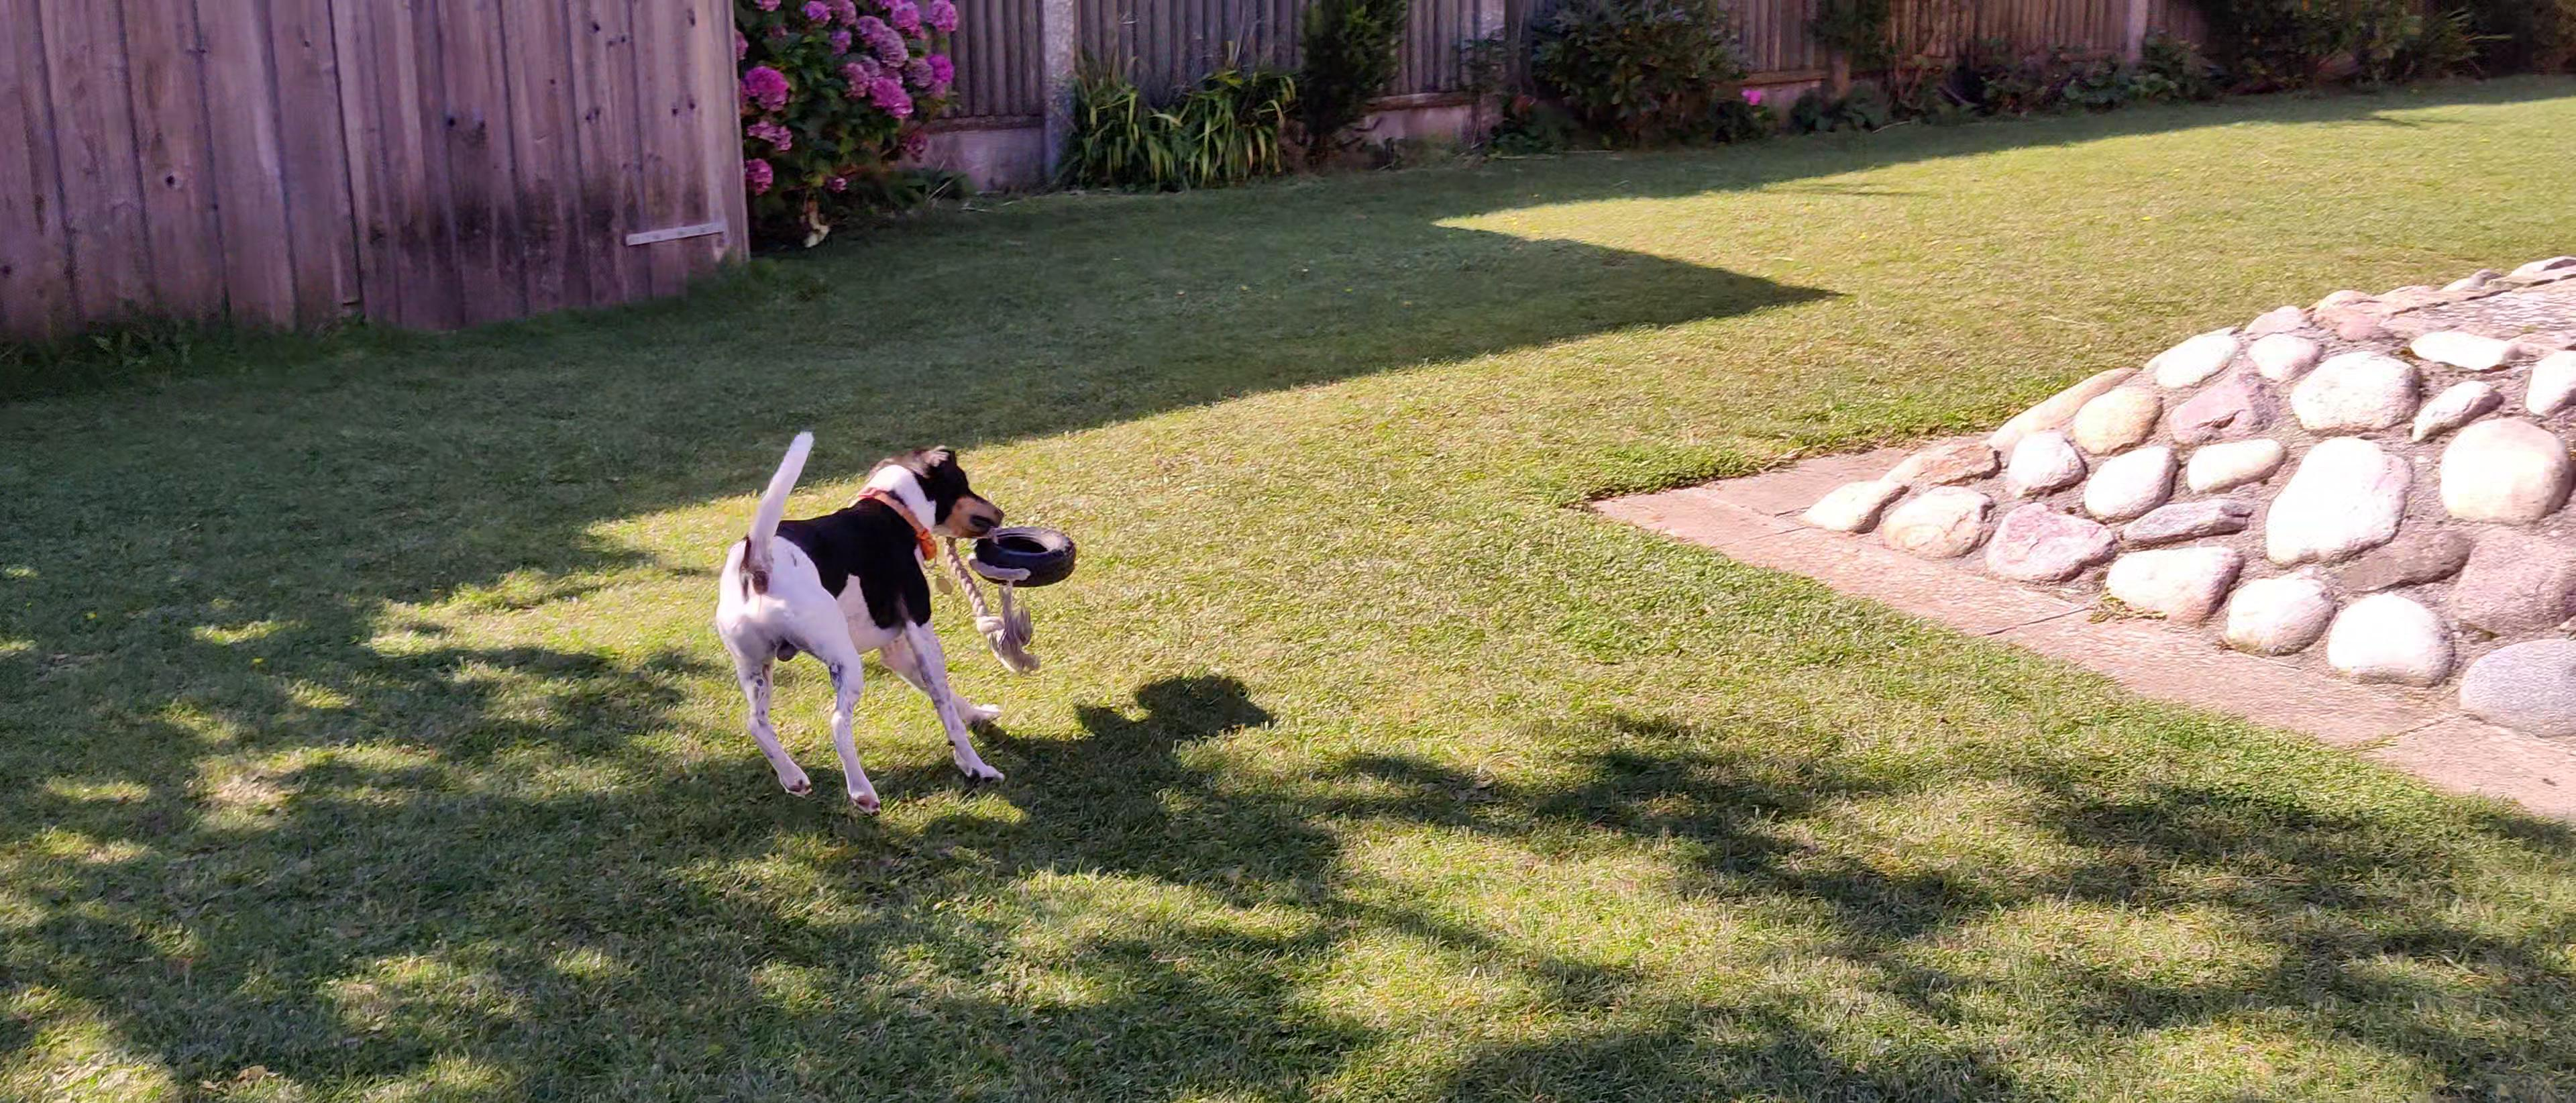Dog: (693, 409, 1050, 815)
